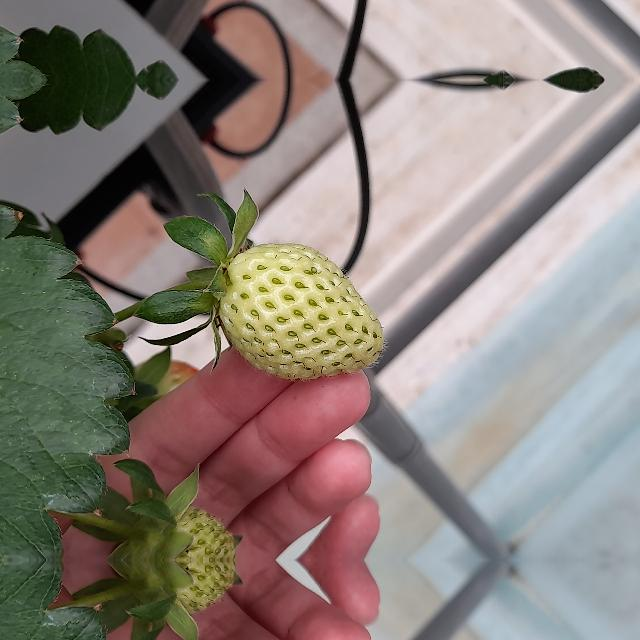Health_25: (219, 243, 383, 379)
